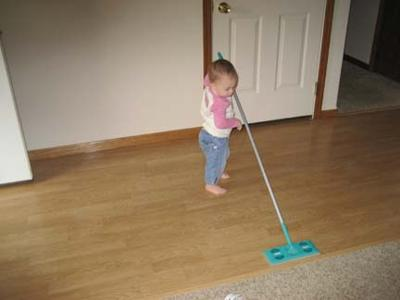person: (199, 59, 245, 195)
